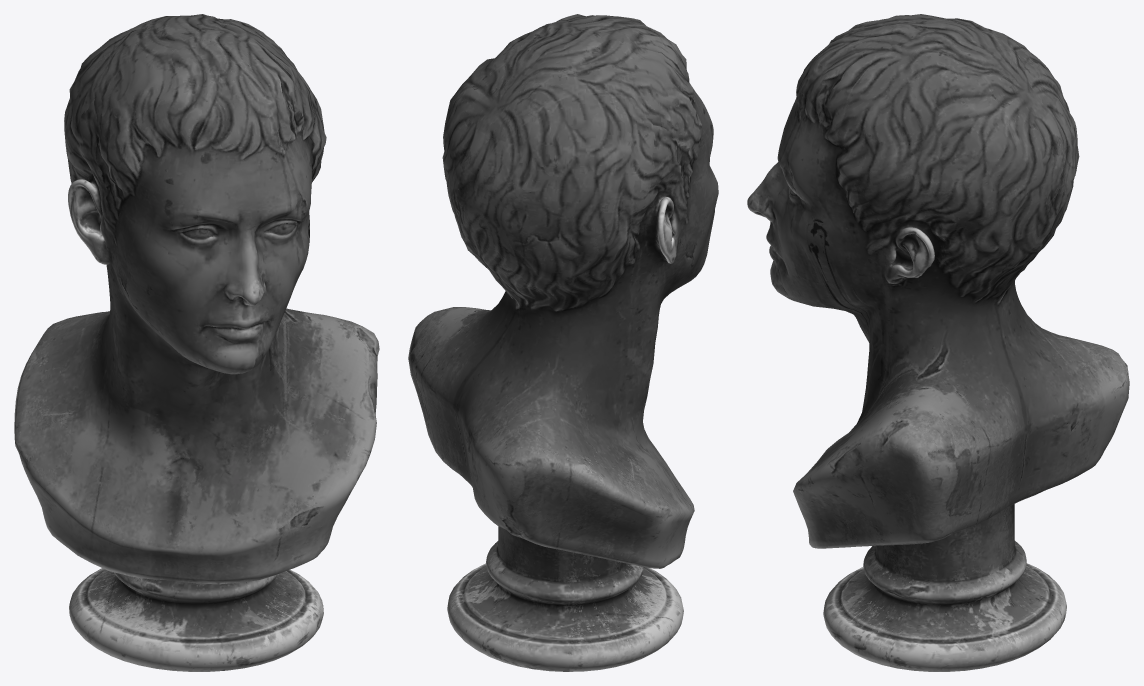
The model's file is marble_bust_01.glb.
3 views of the same model, side by side, from view 1: azimuth 30°, elevation 25°; view 2: azimuth 150°, elevation 25°; view 3: azimuth 270°, elevation 25° (orthographic). The views are drawn at different scales.
Parts seen in each view (by area): view 1: marble_bust_01; view 2: marble_bust_01; view 3: marble_bust_01.
Boxes of the visible parts, bbox=[...] form: marble_bust_01: bbox=[14, 14, 379, 671]; marble_bust_01: bbox=[408, 14, 718, 671]; marble_bust_01: bbox=[747, 14, 1129, 671].
Size of the model in its own units: 0.2718 by 0.5149 by 0.2997.
1 material, 1 textured.
